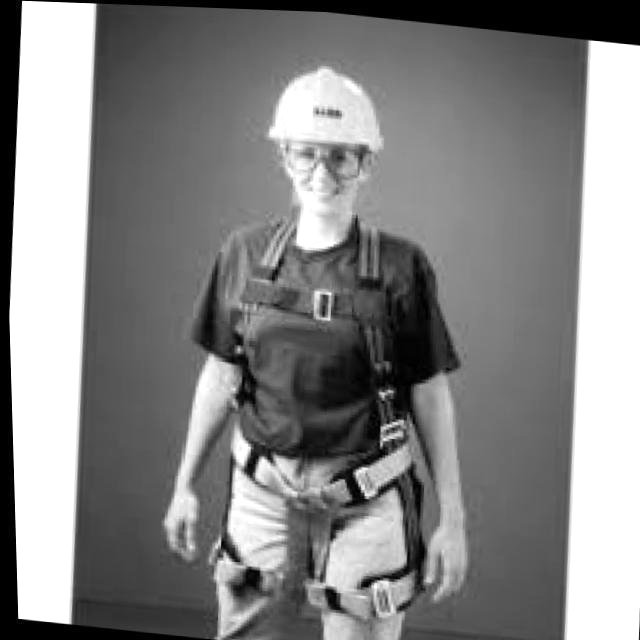safety belt: (222, 214, 424, 634)
